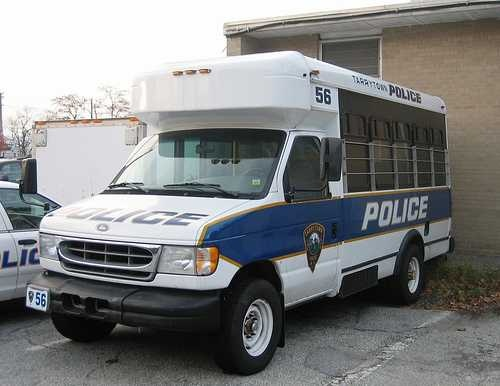Police Van: (32, 51, 463, 369)
